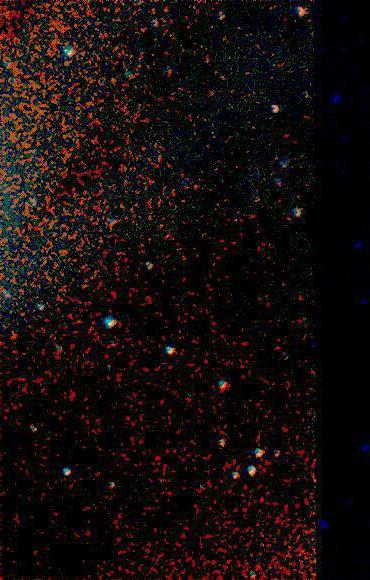star: (101, 66, 131, 96)
